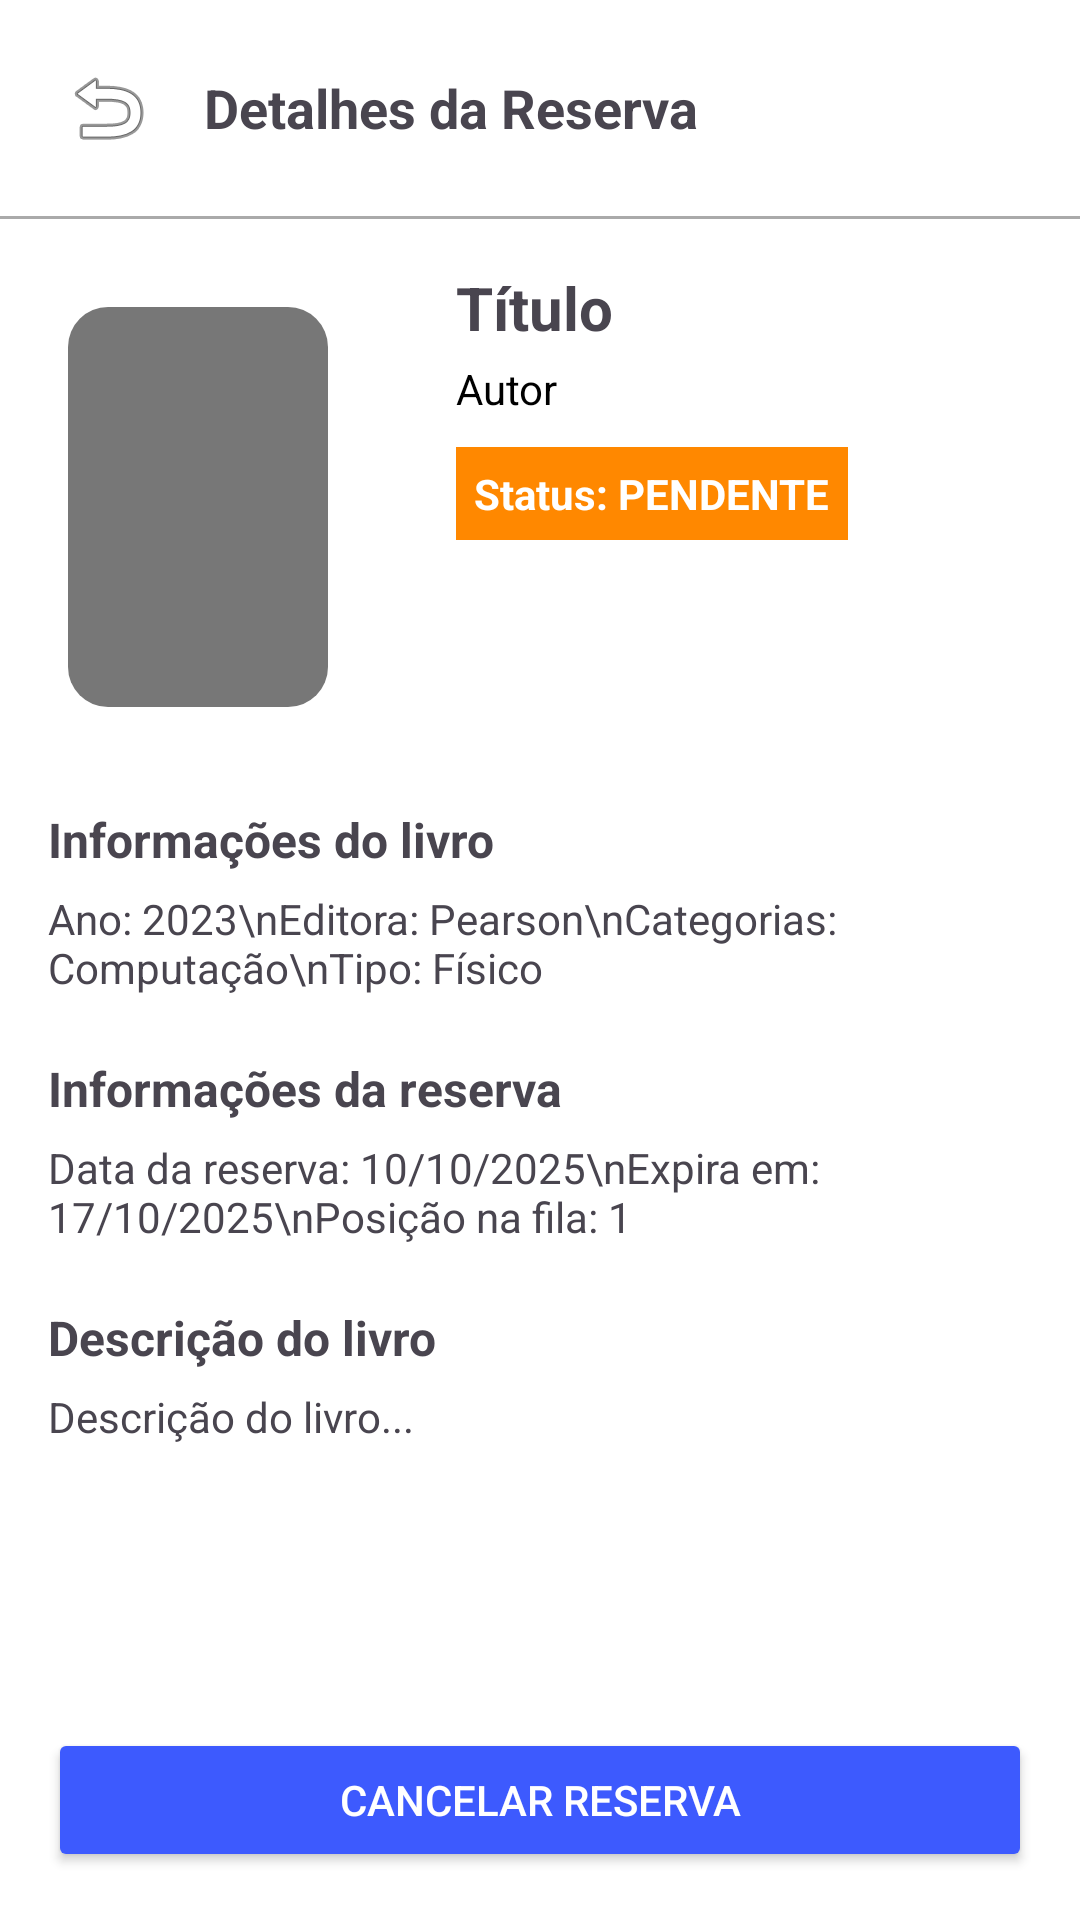

Icons on this 1080x1920 Android screen, each with the point to tap as [x,y]:
Voltar: [109,108]
